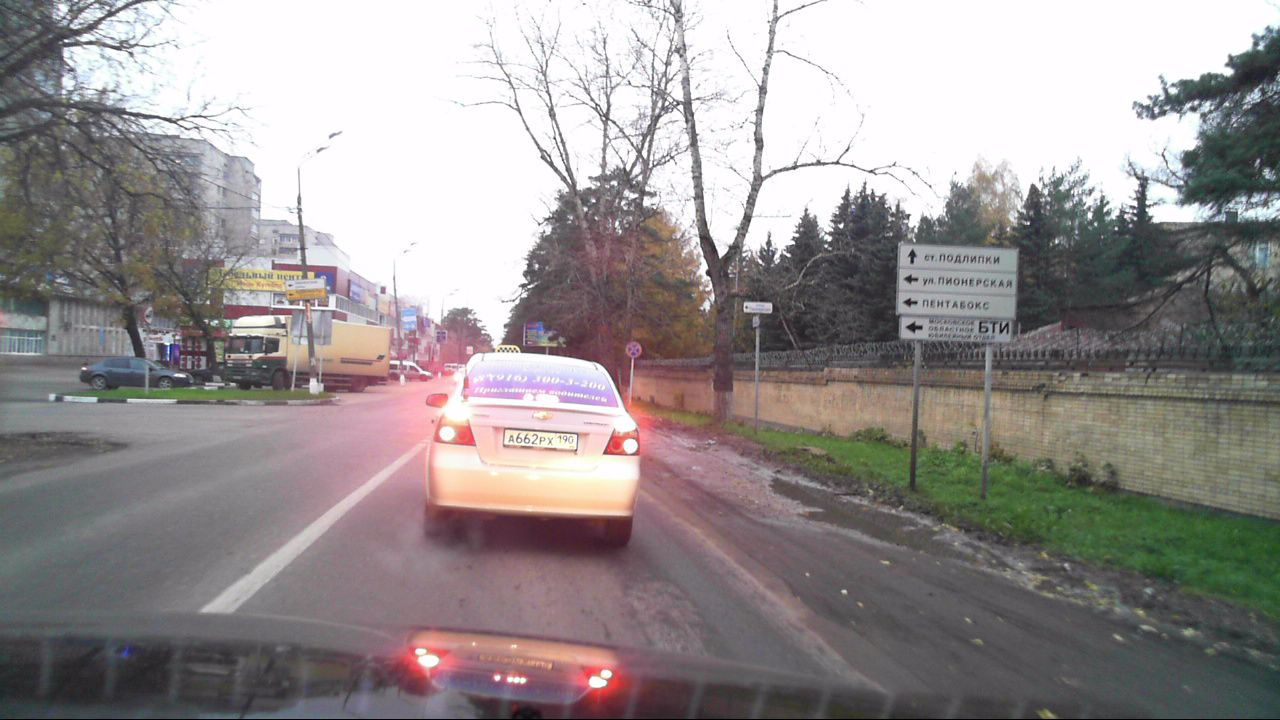No Parking: (625, 341, 642, 358)
